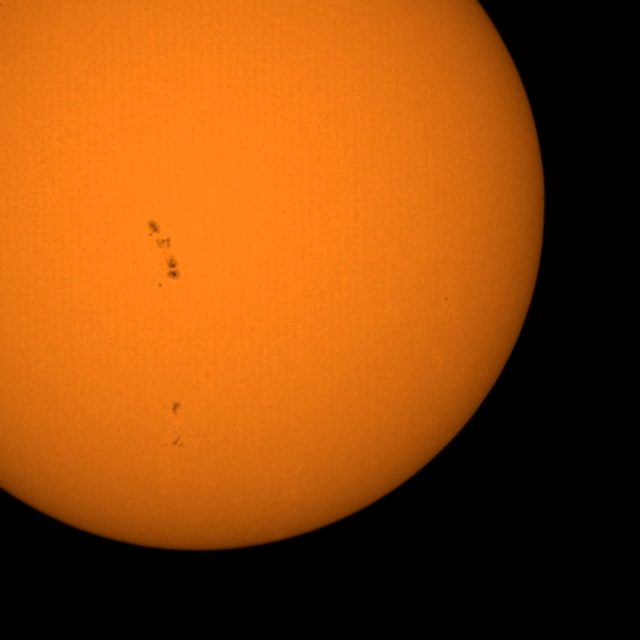sunspot: (149, 227, 179, 276), (146, 219, 172, 253), (163, 427, 185, 450), (165, 255, 181, 281), (164, 400, 182, 415), (443, 296, 449, 302)
